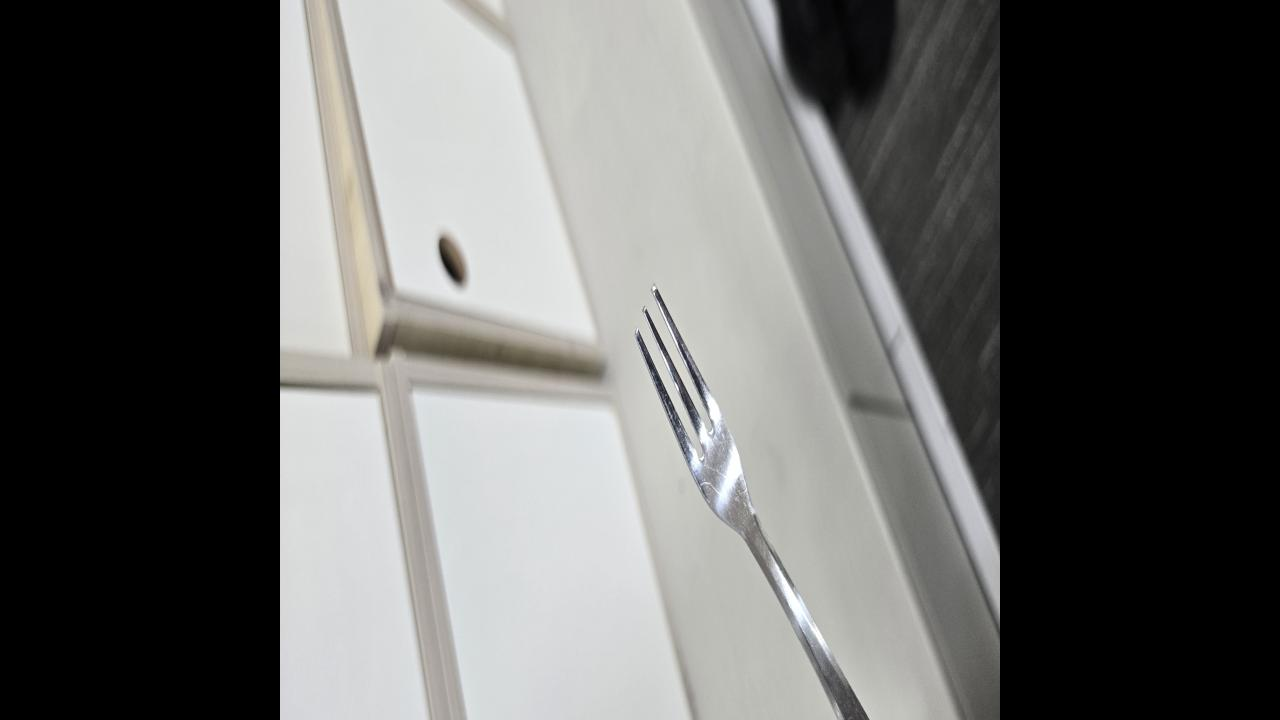fork: (635, 276, 1000, 720)
